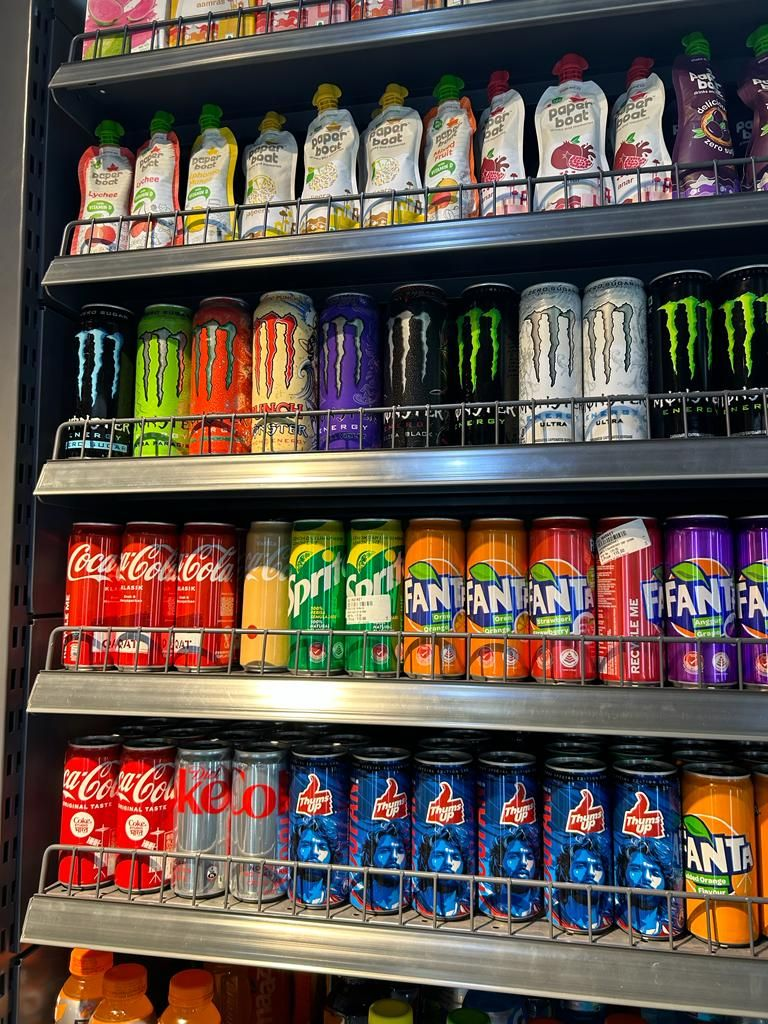soft_drink: (582, 277, 647, 438), (479, 751, 541, 918), (252, 292, 316, 451), (456, 284, 517, 443), (240, 523, 290, 670), (136, 306, 189, 418), (134, 421, 169, 453), (172, 426, 185, 453)
